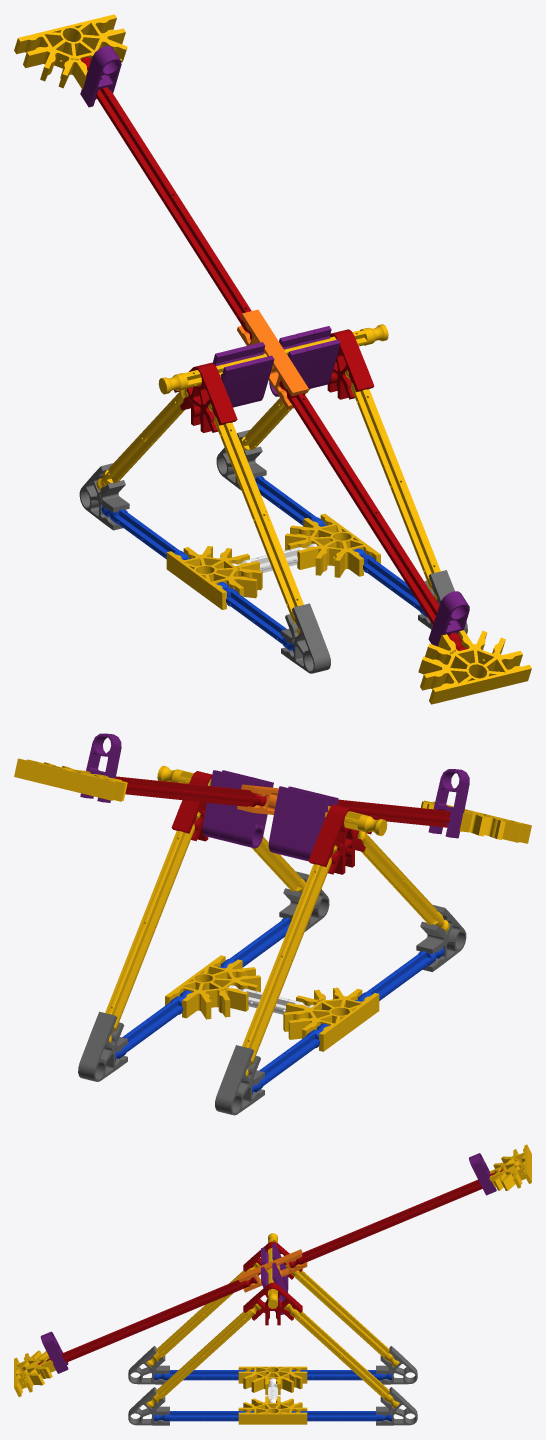
3 renders of one model, top to bottom at view 1: azimuth 30°, elevation 25°; view 2: azimuth 150°, elevation 25°; view 3: azimuth 270°, elevation 25°, orthographic. The views are drawn at different scales.
Visible parts, largest first — view 1: Untitled.1304, Untitled.1302, Untitled.1305, Untitled.1301, Untitled.1327, Untitled.1306, Untitled.1317, Untitled.1326, Untitled.1313, Untitled.1315, Untitled.1329, Untitled.1319 (+16 smaller); view 2: Untitled.1327, Untitled.1319, Untitled.1318, Untitled.1326, Untitled.1301, Untitled.1302, Untitled.1315, Untitled.1322, Untitled.1324, Untitled.1306, Untitled.1305, Untitled.1304 (+19 smaller); view 3: Untitled.1305, Untitled.1302, Untitled.1326, Untitled.1327, Untitled.1317, Untitled.1318, Untitled.1319, Untitled.1301, Untitled.1304, Untitled.1306, Untitled.1314, Untitled.1321 (+12 smaller).
Boxes of the visible parts, x1,y1,x2,y2 form: Untitled.1304: [418, 630, 531, 704]; Untitled.1302: [80, 57, 252, 339]; Untitled.1305: [279, 380, 467, 650]; Untitled.1301: [14, 14, 127, 89]; Untitled.1327: [166, 546, 262, 609]; Untitled.1306: [208, 403, 303, 634]; Untitled.1317: [345, 370, 440, 600]; Untitled.1326: [285, 513, 380, 577]; Untitled.1313: [237, 309, 308, 409]; Untitled.1315: [174, 362, 237, 432]; Untitled.1329: [281, 603, 330, 673]; Untitled.1319: [96, 389, 188, 490]; Untitled.1327: [283, 987, 379, 1051]; Untitled.1319: [242, 845, 337, 1076]; Untitled.1318: [105, 812, 200, 1042]; Untitled.1326: [165, 955, 260, 1019]; Untitled.1301: [14, 758, 127, 801]; Untitled.1302: [115, 776, 266, 806]; Untitled.1315: [308, 804, 371, 874]; Untitled.1322: [78, 1011, 127, 1081]; Untitled.1324: [215, 1045, 264, 1115]; Untitled.1306: [357, 831, 449, 932]; Untitled.1305: [337, 799, 450, 827]; Untitled.1304: [421, 800, 531, 843]; Untitled.1305: [38, 1277, 257, 1364]; Untitled.1302: [288, 1169, 503, 1268]; Untitled.1326: [238, 1396, 307, 1424]; Untitled.1327: [238, 1366, 307, 1394]; Untitled.1317: [146, 1303, 261, 1407]; Untitled.1318: [284, 1303, 399, 1407]; Untitled.1319: [285, 1264, 399, 1366]; Untitled.1301: [489, 1144, 531, 1190]; Untitled.1304: [14, 1350, 55, 1396]; Untitled.1306: [146, 1262, 260, 1366]; Untitled.1314: [243, 1282, 302, 1325]; Untitled.1321: [154, 1411, 254, 1421].
Size of the model in its own units: 0.843 by 1.47 by 2.78.
